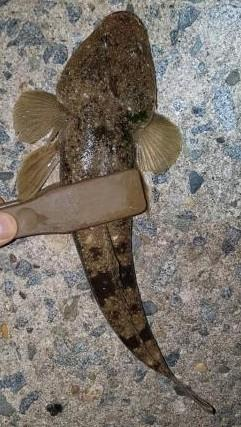fish: (13, 12, 217, 416)
